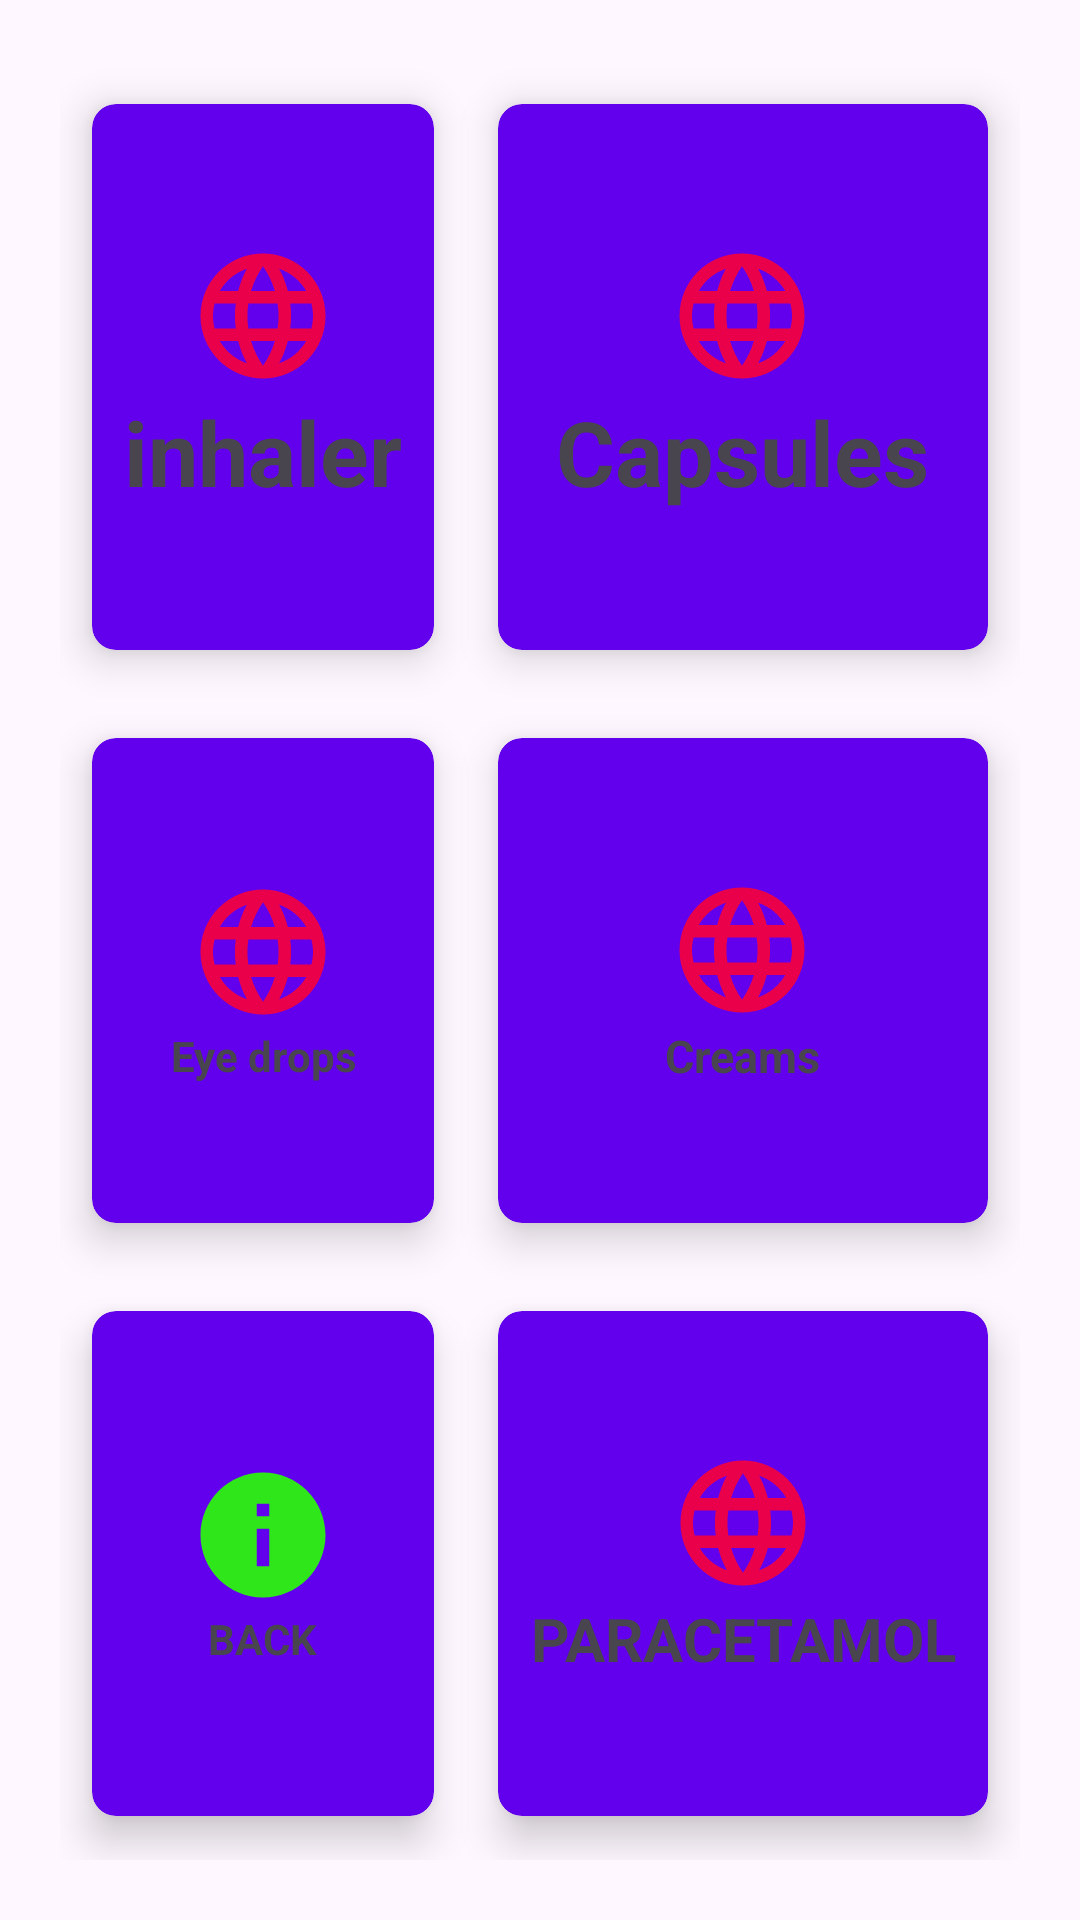

Point at icon controls on the screen. Image size 1080px x 1920px, points as (x=x, y=y).
info: (x=263, y=1535)
language: (x=263, y=316), (x=742, y=316), (x=742, y=950), (x=263, y=952), (x=743, y=1523)
